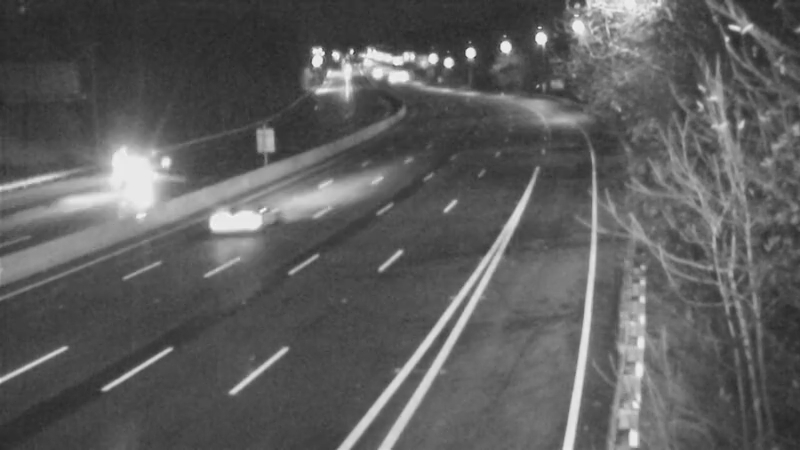vehicle: (186, 179, 266, 259), (93, 135, 173, 215), (95, 117, 175, 197), (367, 54, 417, 104)
